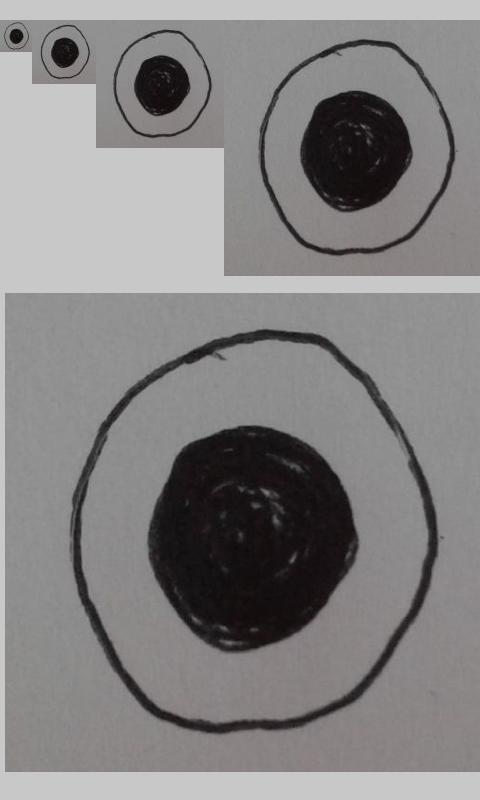radio_button: (66, 328, 441, 735), (257, 36, 457, 258), (112, 29, 213, 138), (40, 24, 91, 80), (3, 22, 30, 50)
